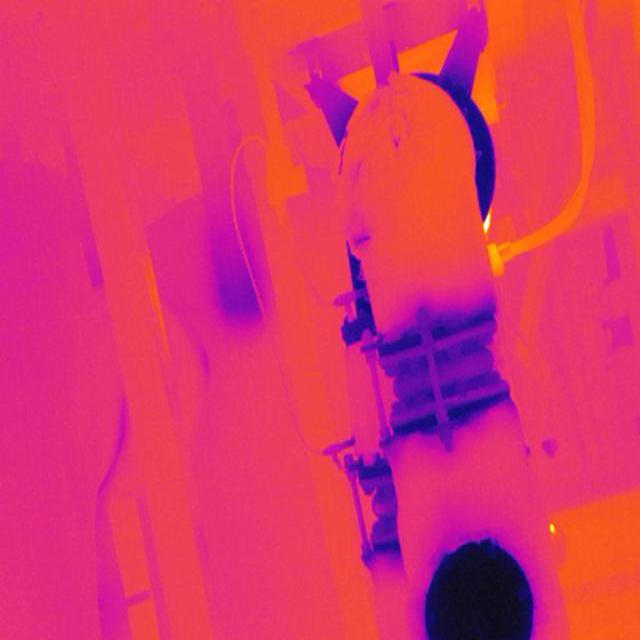leakage: (346, 213, 380, 253)
